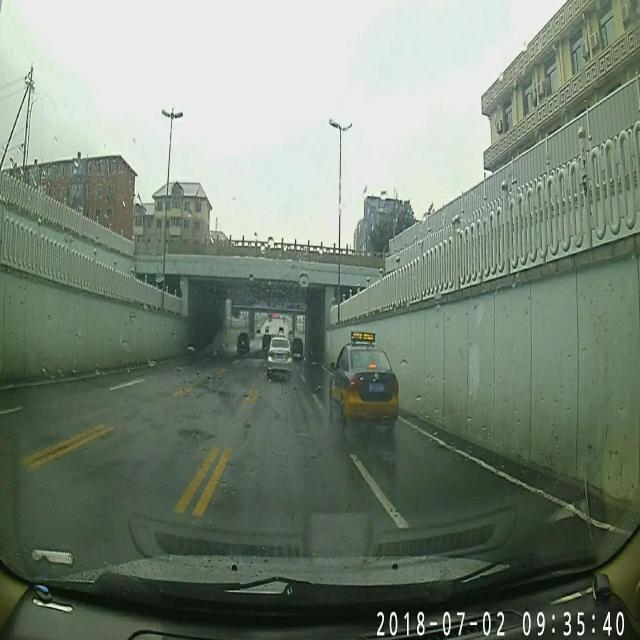car: (328, 328, 398, 438), (268, 336, 292, 382), (236, 331, 250, 356), (291, 334, 303, 358), (262, 334, 272, 352)
